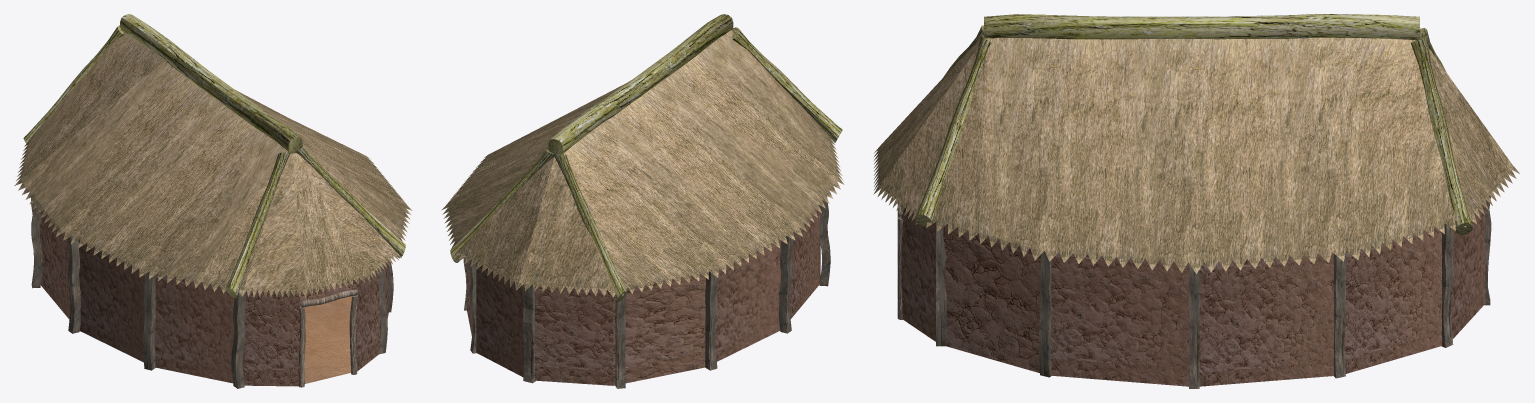
Rendered from Casa S39.fbx.
3 views of the same model, side by side, from view 1: azimuth 30°, elevation 25°; view 2: azimuth 150°, elevation 25°; view 3: azimuth 270°, elevation 25° (orthographic). The views are drawn at different scales.
Visible parts, largest first — view 1: techo base, paredes barro, vigas, viga central, Suelo, vigas soporte frontal, marco puerta, vigas soporte trasera; view 2: techo base, paredes barro, vigas, viga central, vigas soporte trasera, vigas soporte frontal, viga; view 3: techo base, paredes barro, viga central, vigas, vigas soporte trasera, vigas soporte frontal, marco puerta.
Boxes of the visible parts, x1,y1,x2,y2 form: techo base: (14,32,412,297); paredes barro: (40,205,388,386); vigas: (31,196,393,388); viga central: (120,14,302,153); Suelo: (304,296,351,383); vigas soporte frontal: (226,147,405,298); marco puerta: (298,289,358,387); vigas soporte trasera: (23,25,124,143); techo base: (441,30,844,297); paredes barro: (467,204,820,385); vigas: (463,195,830,388); viga central: (548,14,733,154); vigas soporte trasera: (450,150,627,302); vigas soporte frontal: (732,27,842,142); viga: (522,284,535,383); techo base: (873,34,1519,273); paredes barro: (901,204,1485,386); viga central: (984,14,1419,40); vigas: (936,221,1453,388); vigas soporte trasera: (1410,28,1472,234); vigas soporte frontal: (914,25,992,227); marco puerta: (897,201,903,319).
Bounding box in the file's own units: 694 × 951 × 465.
